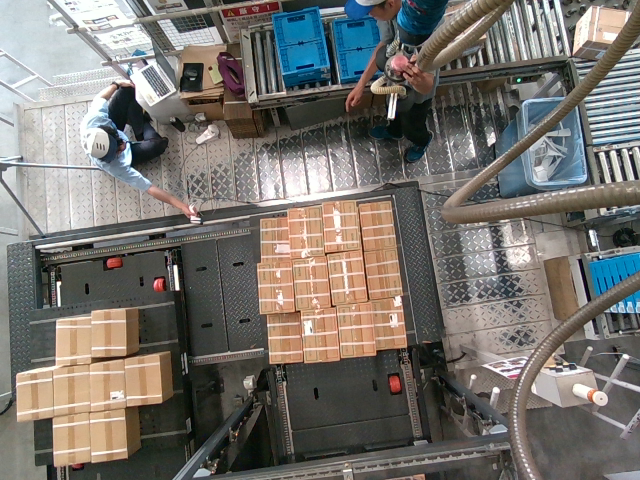box: (334, 301, 373, 355), (300, 307, 338, 361), (321, 198, 360, 250), (255, 259, 294, 311), (328, 250, 366, 300), (362, 249, 400, 297), (288, 205, 323, 257), (291, 257, 328, 305), (267, 311, 301, 363), (360, 201, 394, 247)
